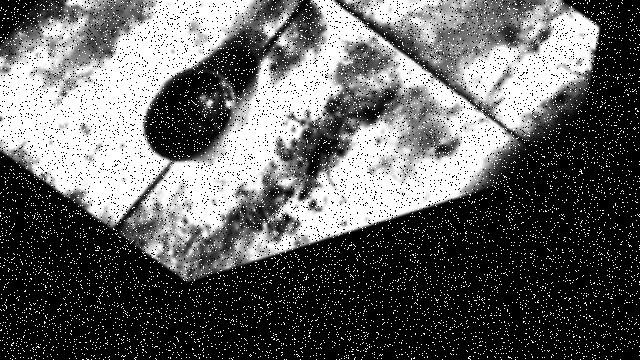pot: (146, 48, 257, 160)
